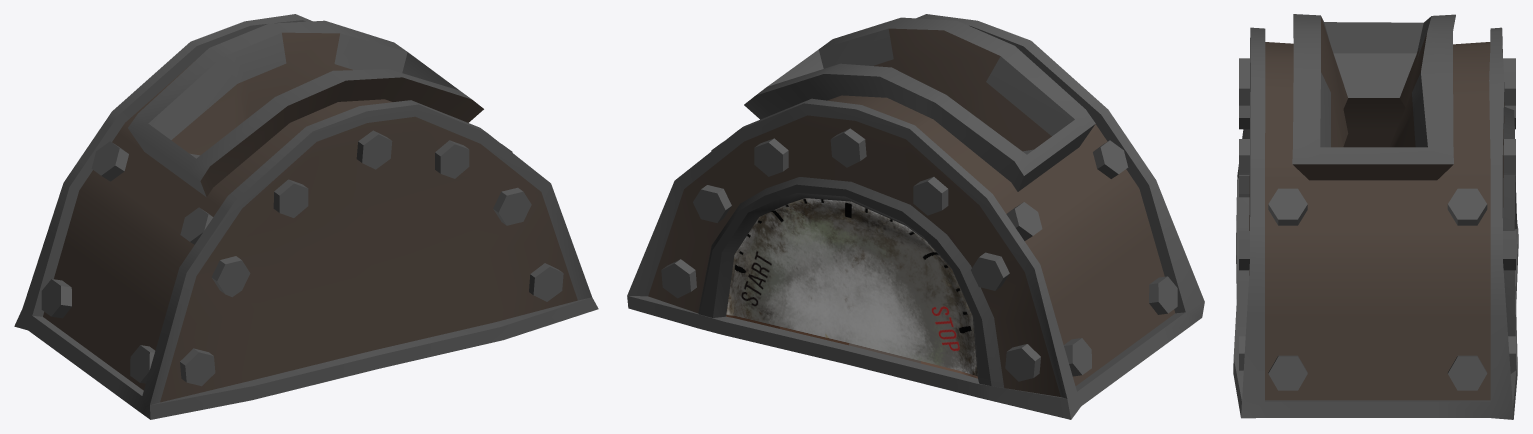
The model's file is SM_Lever_Base.FBX.
3 renders of one model, left to right at view 1: azimuth 30°, elevation 25°; view 2: azimuth 150°, elevation 25°; view 3: azimuth 270°, elevation 25°, orthographic. The views are drawn at different scales.
Visible parts, largest first — view 1: Cylinder001; view 2: Cylinder001; view 3: Cylinder001.
Boxes of the visible parts, box(x1,y1,x2,y2) form: Cylinder001: box(14, 14, 598, 419); Cylinder001: box(627, 14, 1204, 419); Cylinder001: box(1233, 14, 1518, 419).
Size of the model in its own units: 52.89 by 30.32 by 28.23.
